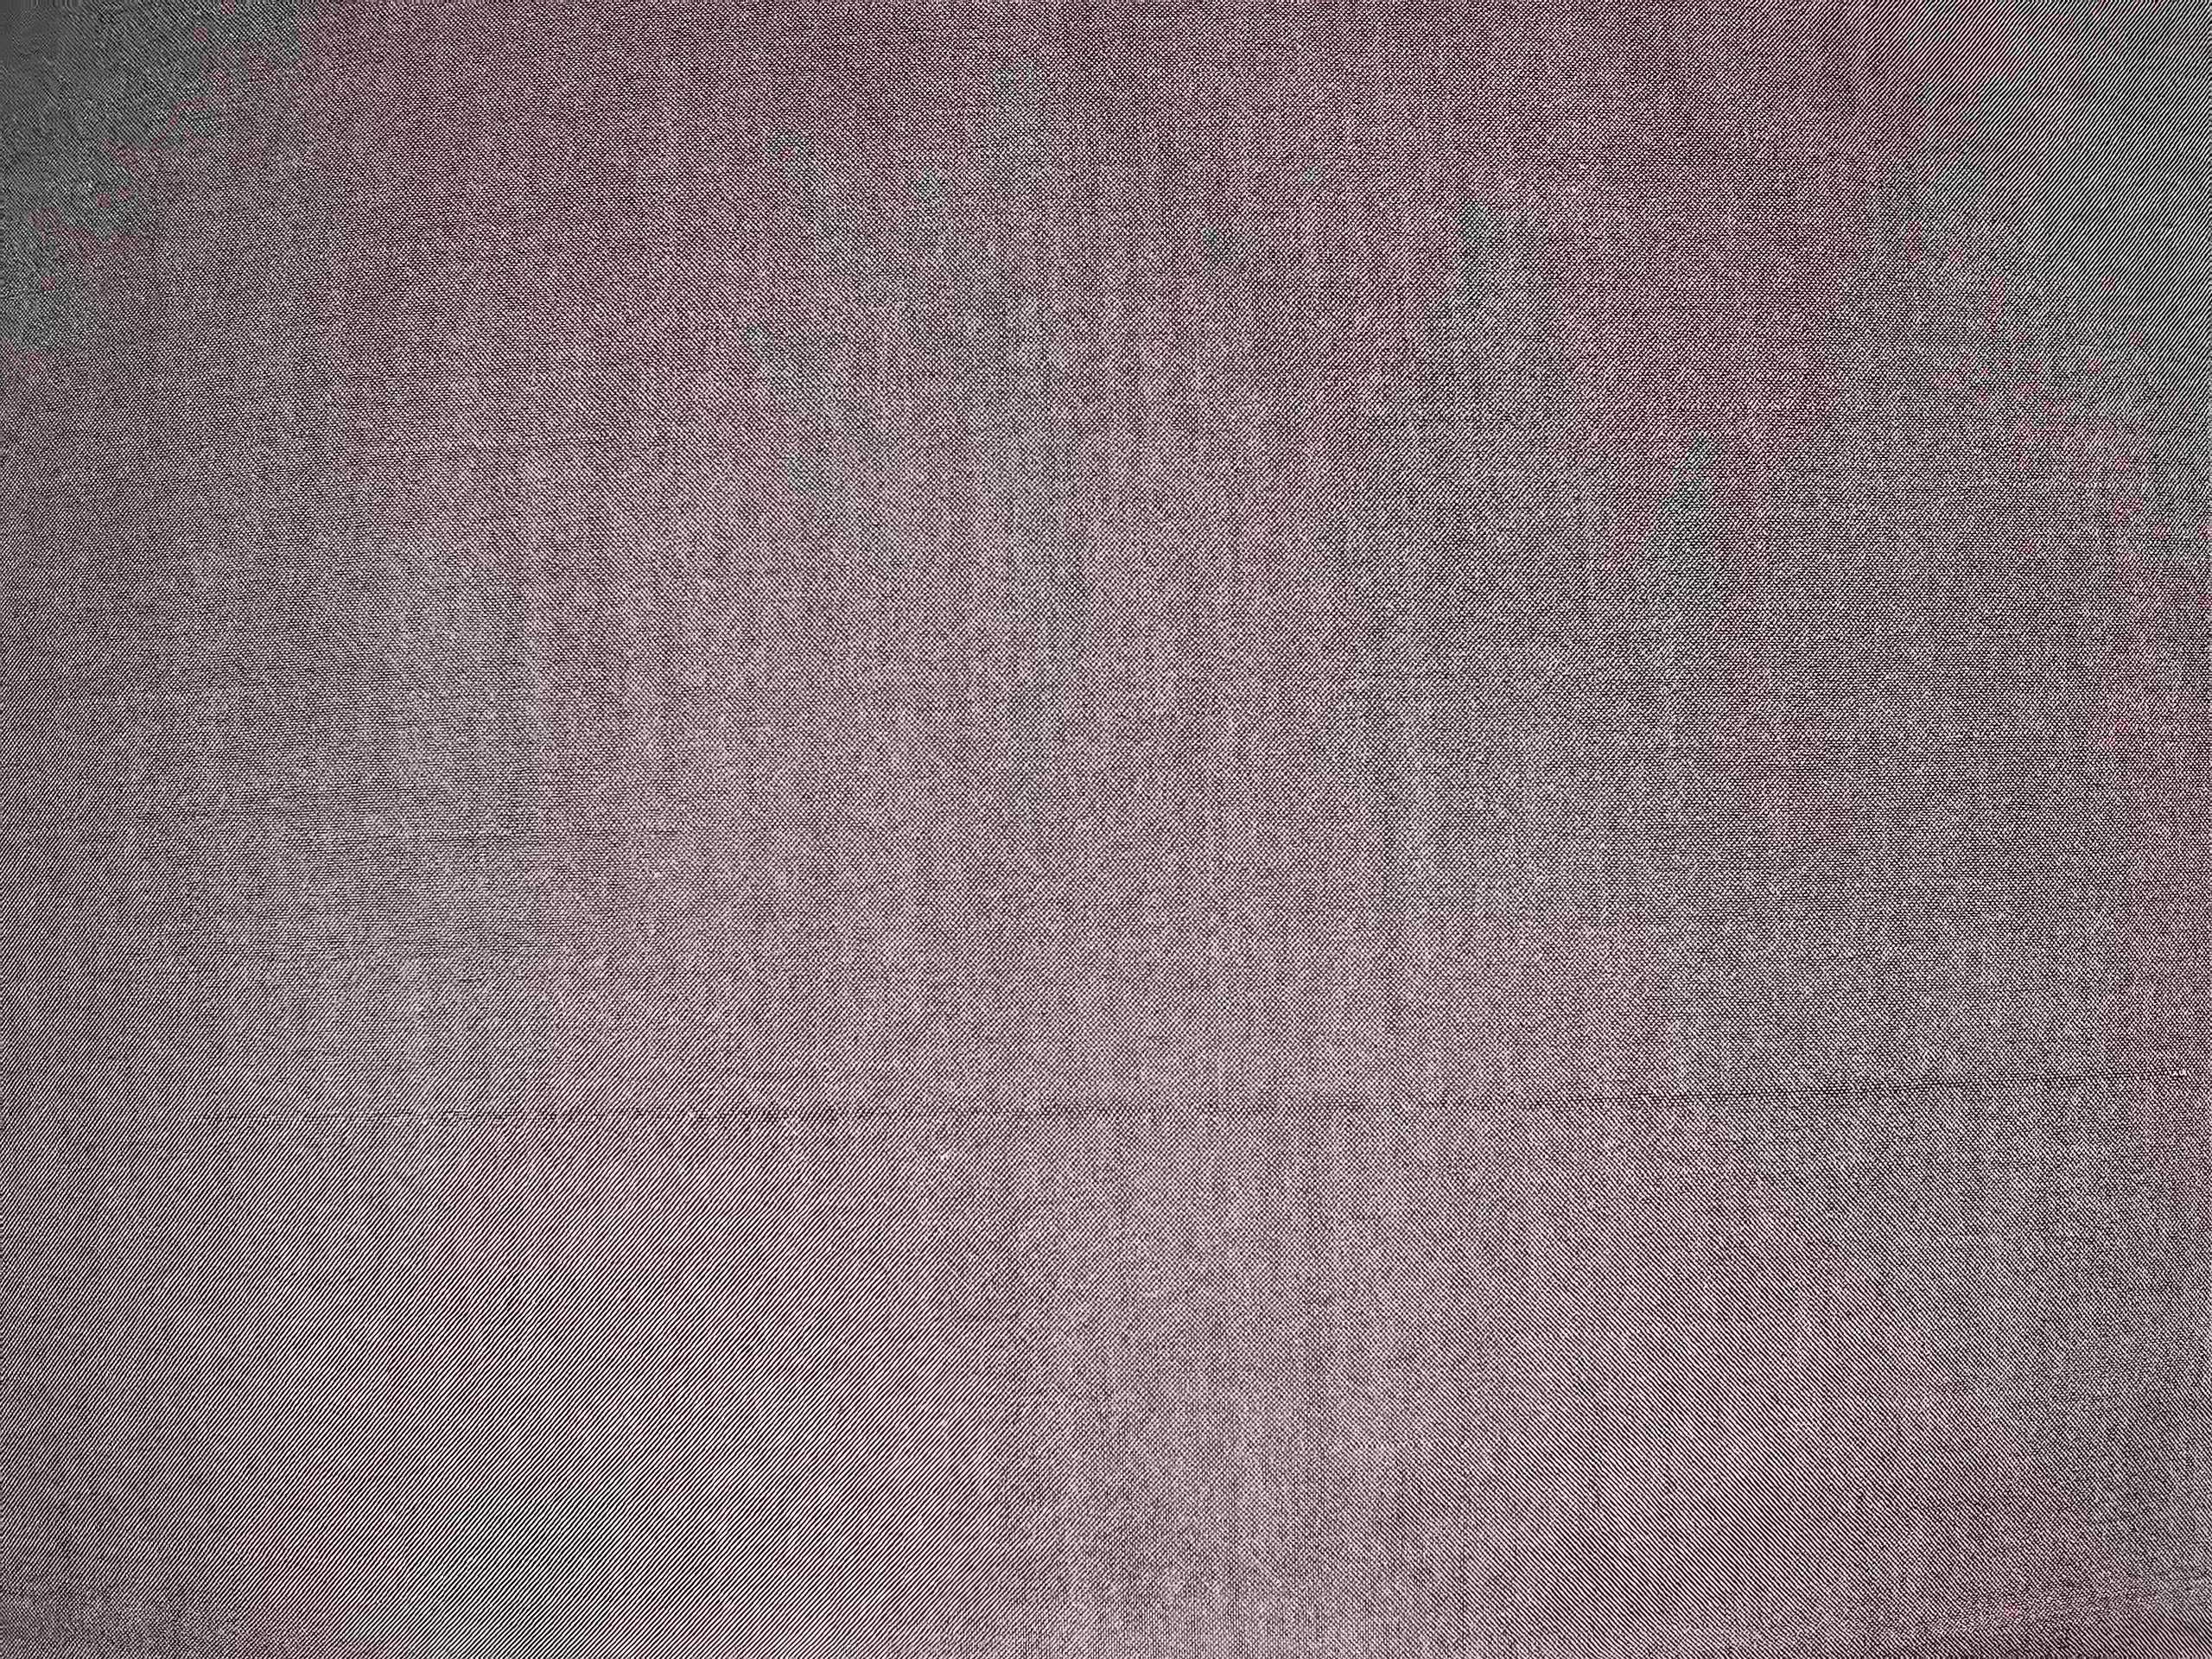thin-spinning: (3, 1060, 2209, 1143)
